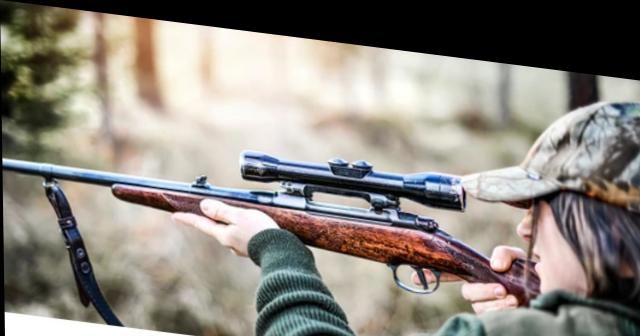other: (447, 81, 640, 334)
